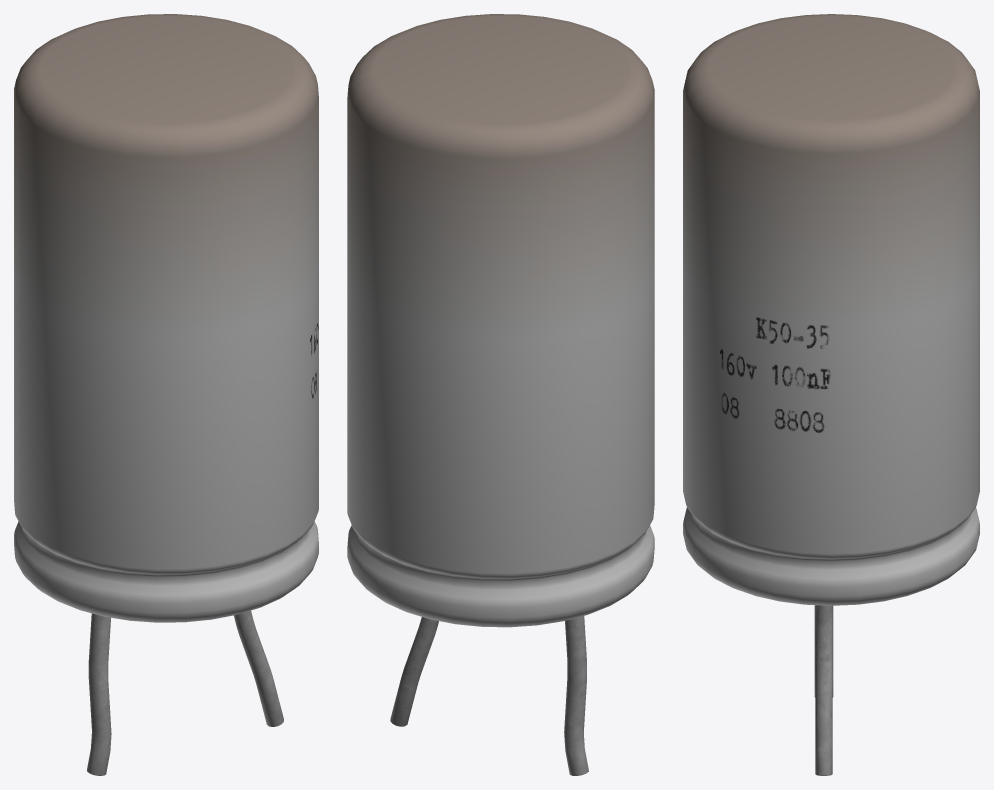
3 renders of one model, left to right at view 1: azimuth 30°, elevation 25°; view 2: azimuth 150°, elevation 25°; view 3: azimuth 270°, elevation 25°, orthographic. The views are drawn at different scales.
Visible parts, largest first — view 1: capicator; view 2: capicator; view 3: capicator.
Boxes of the visible parts, x1,y1,x2,y2 form: capicator: (14, 14, 318, 775); capicator: (347, 14, 654, 775); capicator: (683, 14, 979, 775).
Bounding box in the file's own units: 0.1803 × 0.445 × 0.1803.
Materials: 1 (1 with a texture image).
